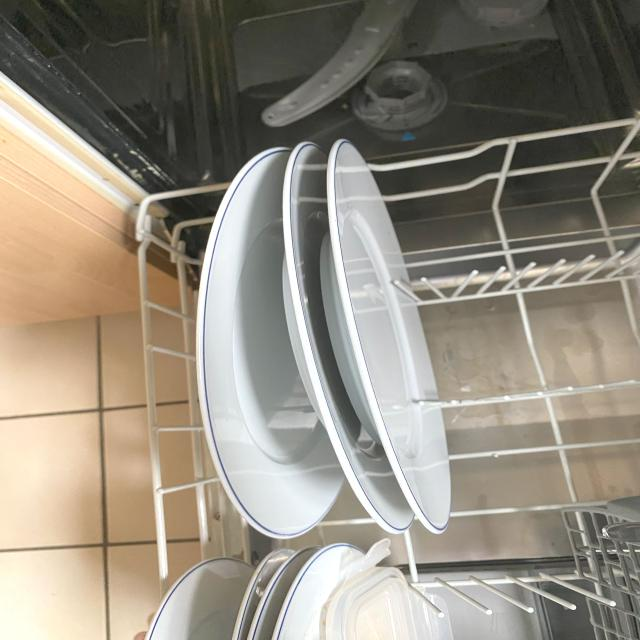empty_slot: (435, 139, 640, 564)
